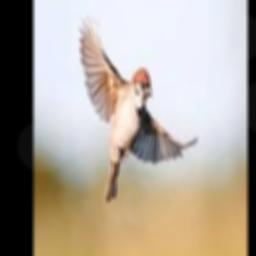Sparrow: (79, 11, 197, 202)
